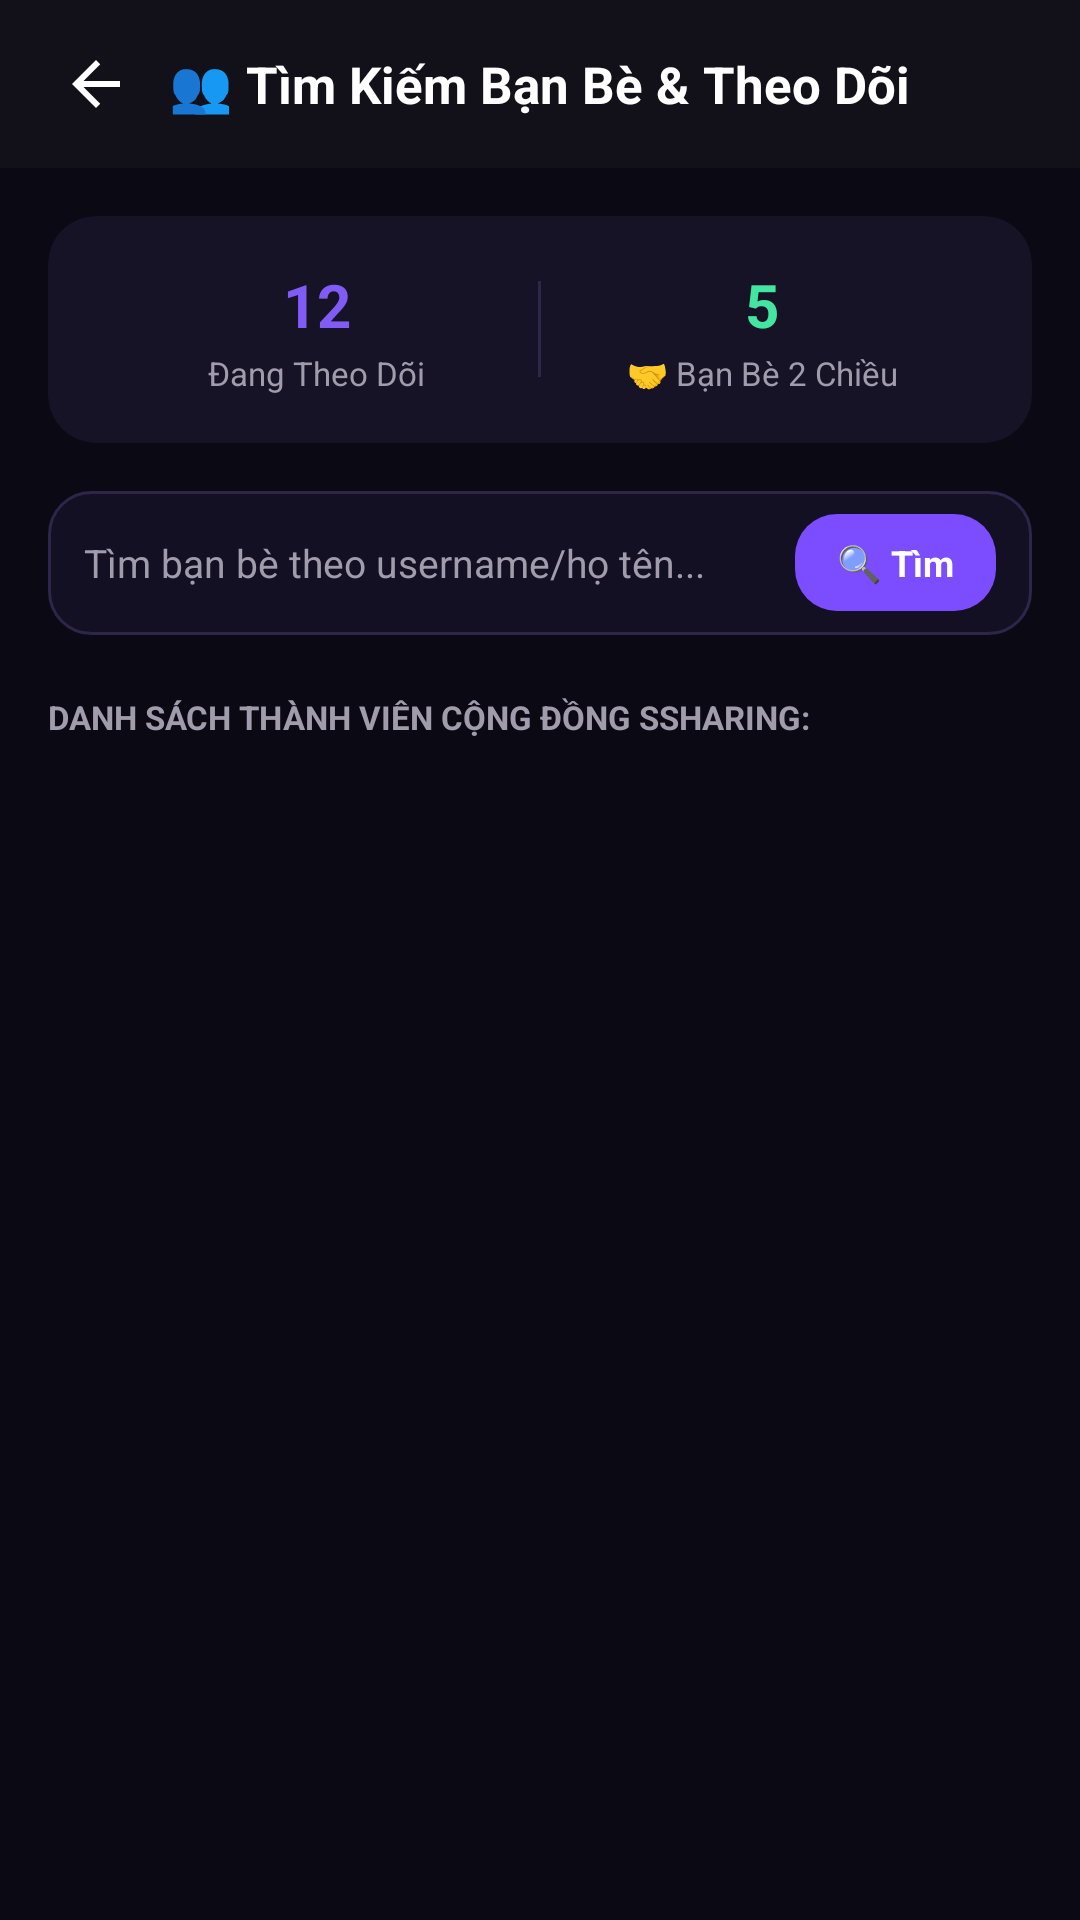

Where icons sit on this 1080 x 1920 app screen, as {"left": x1, "top": y1, "right": x2, "bottom": y2}:
Quay lại: {"left": 72, "top": 60, "right": 120, "bottom": 108}
